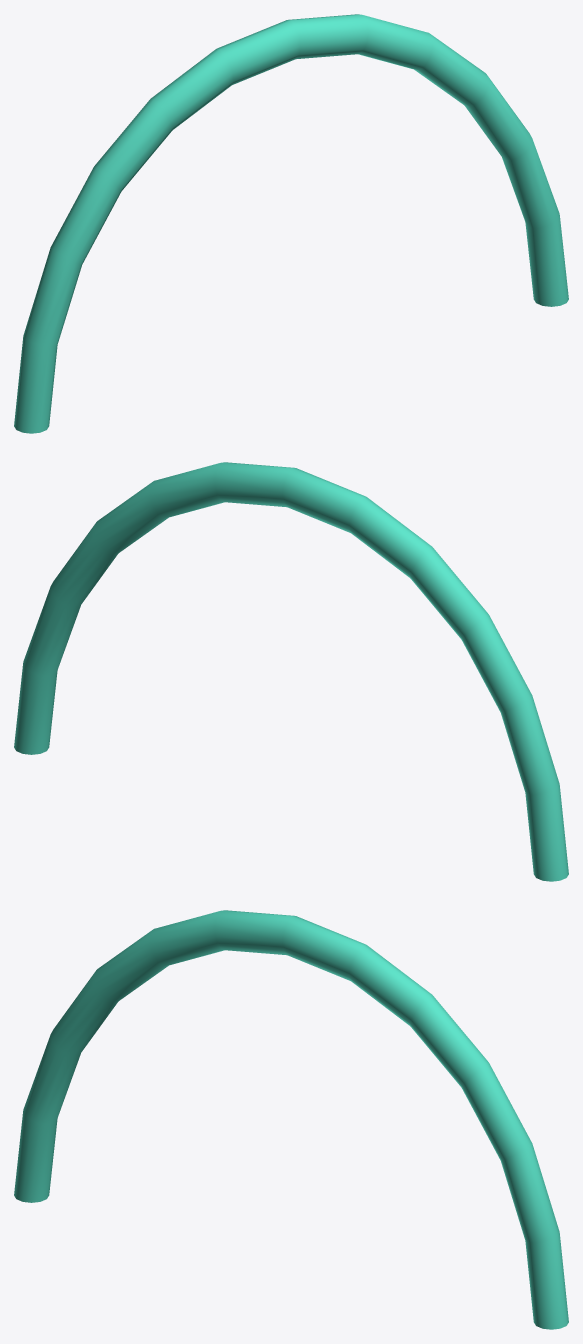
File: Arche.obj
3 views of the same model, one above another, from view 1: azimuth 30°, elevation 25°; view 2: azimuth 150°, elevation 25°; view 3: azimuth 330°, elevation 25° (orthographic).
Visible parts, largest first — view 1: Arche; view 2: Arche; view 3: Arche.
Part boxes in pixels (bbox=[...]): Arche: bbox=[14, 14, 568, 433]; Arche: bbox=[14, 462, 568, 881]; Arche: bbox=[14, 910, 568, 1329].
Size of the model in its own units: 112 by 66.4 by 6.19.
